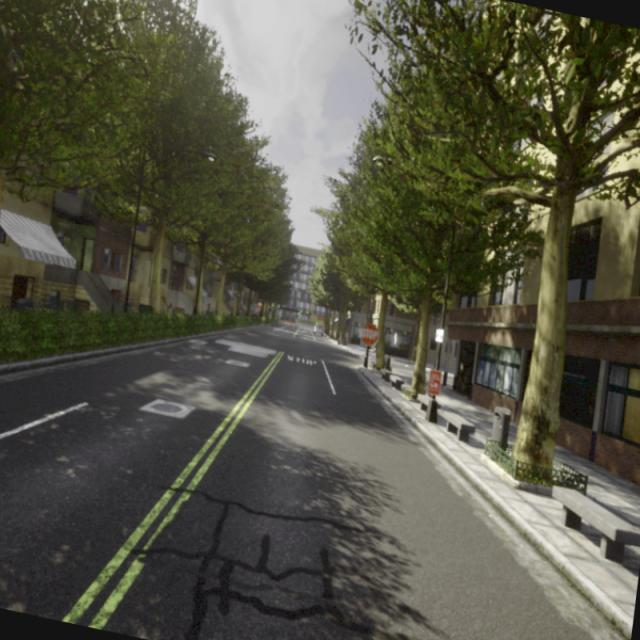stop sign: (359, 321, 380, 348)
